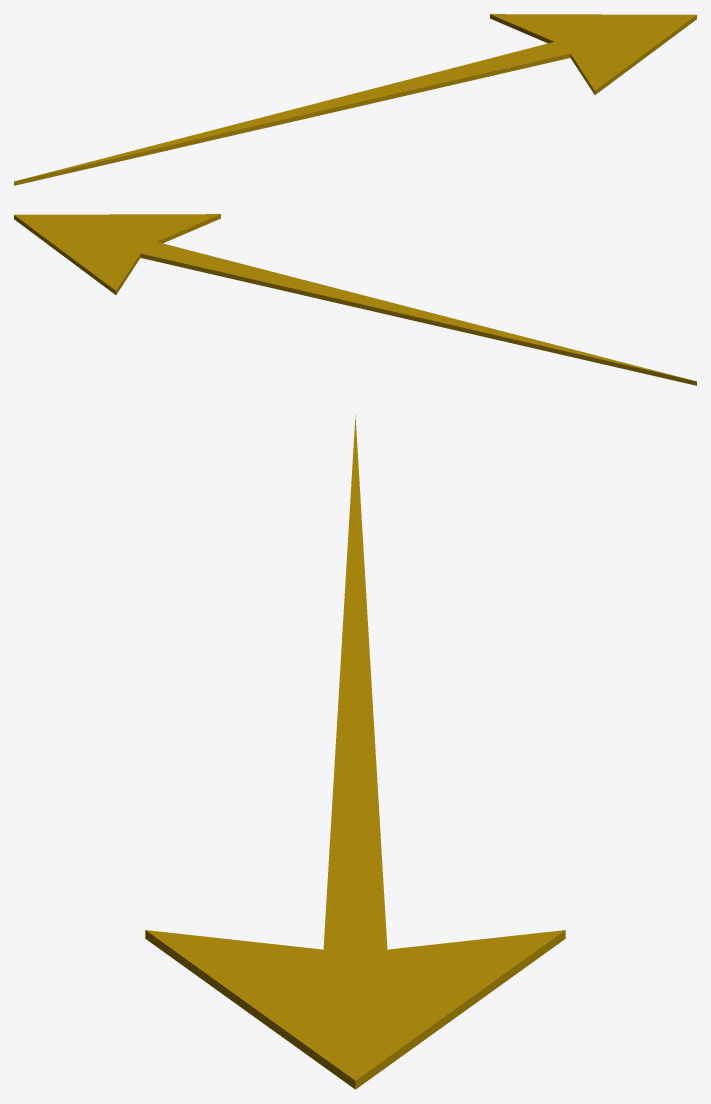
Rendered from arrow.fbx.
The picture shows the model from 3 angles, top to bottom: view 1: azimuth 30°, elevation 25°; view 2: azimuth 150°, elevation 25°; view 3: azimuth 270°, elevation 25°; orthographic projection. The views are drawn at different scales.
Parts seen in each view (by area): view 1: pCylinder3; view 2: pCylinder3; view 3: pCylinder3.
Boxes of the visible parts, box(x1,y1,x2,y2) form: pCylinder3: box(14, 14, 696, 185); pCylinder3: box(14, 214, 696, 385); pCylinder3: box(145, 414, 565, 1089).
Bounding box in the file's own units: 17.2 × 0.1061 × 4.58.
